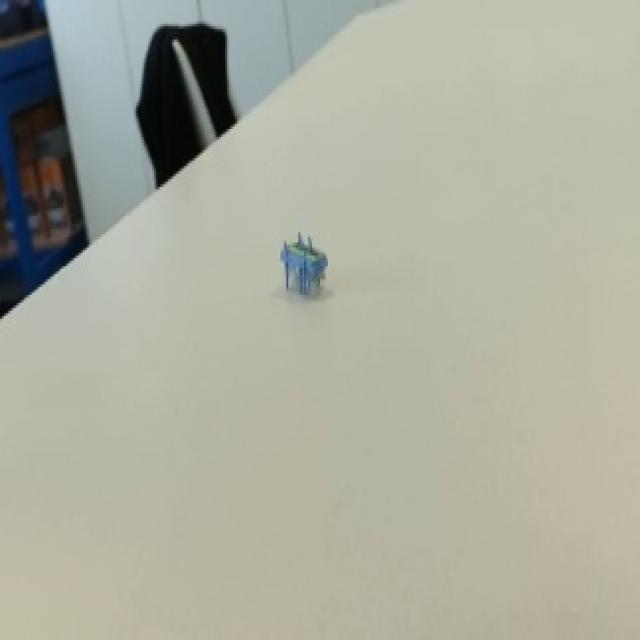3_NanoBug_Celeste: (269, 224, 348, 319)
